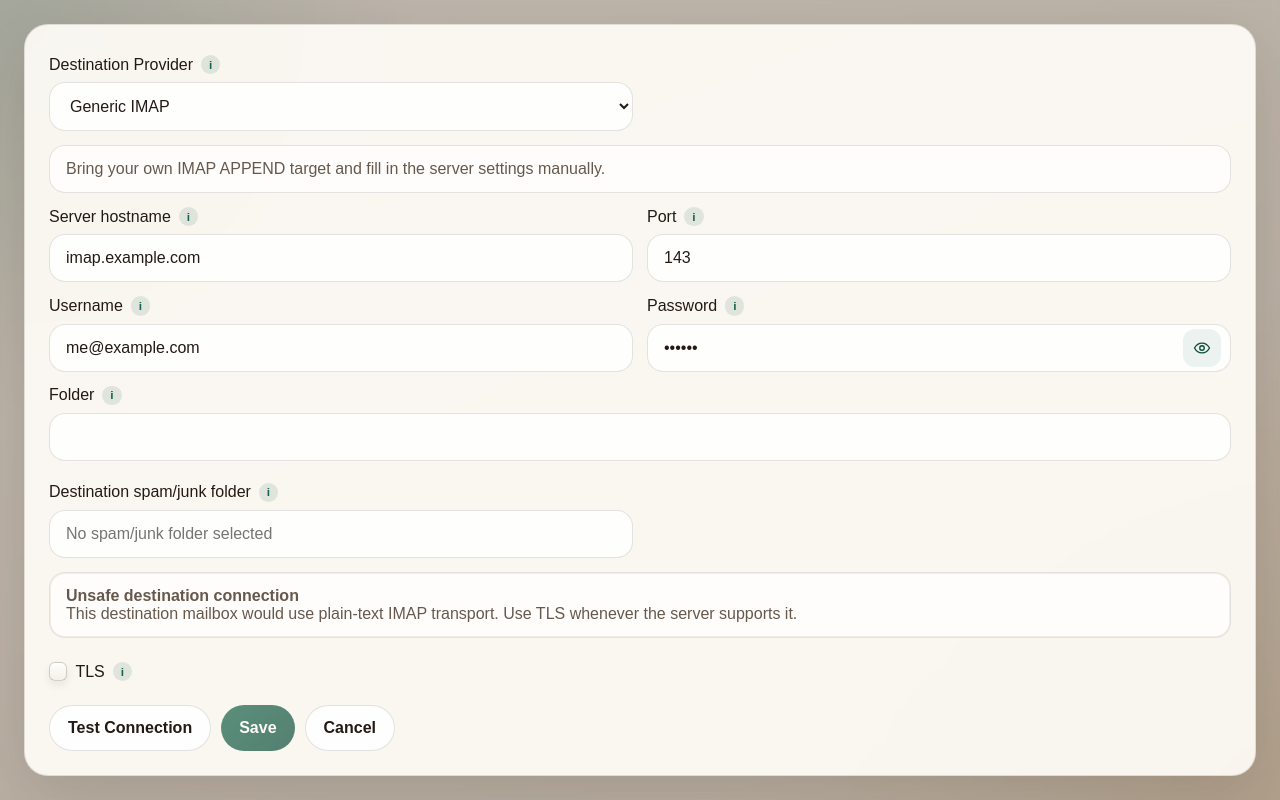
Scenario: DestinationMailboxDialog › locks TLS and loads detected folders after a secure connection test upgrade
(page scrolled)
Click the button "Test Connection". click: (130, 728)
box: left=49, top=705, right=211, bottom=751
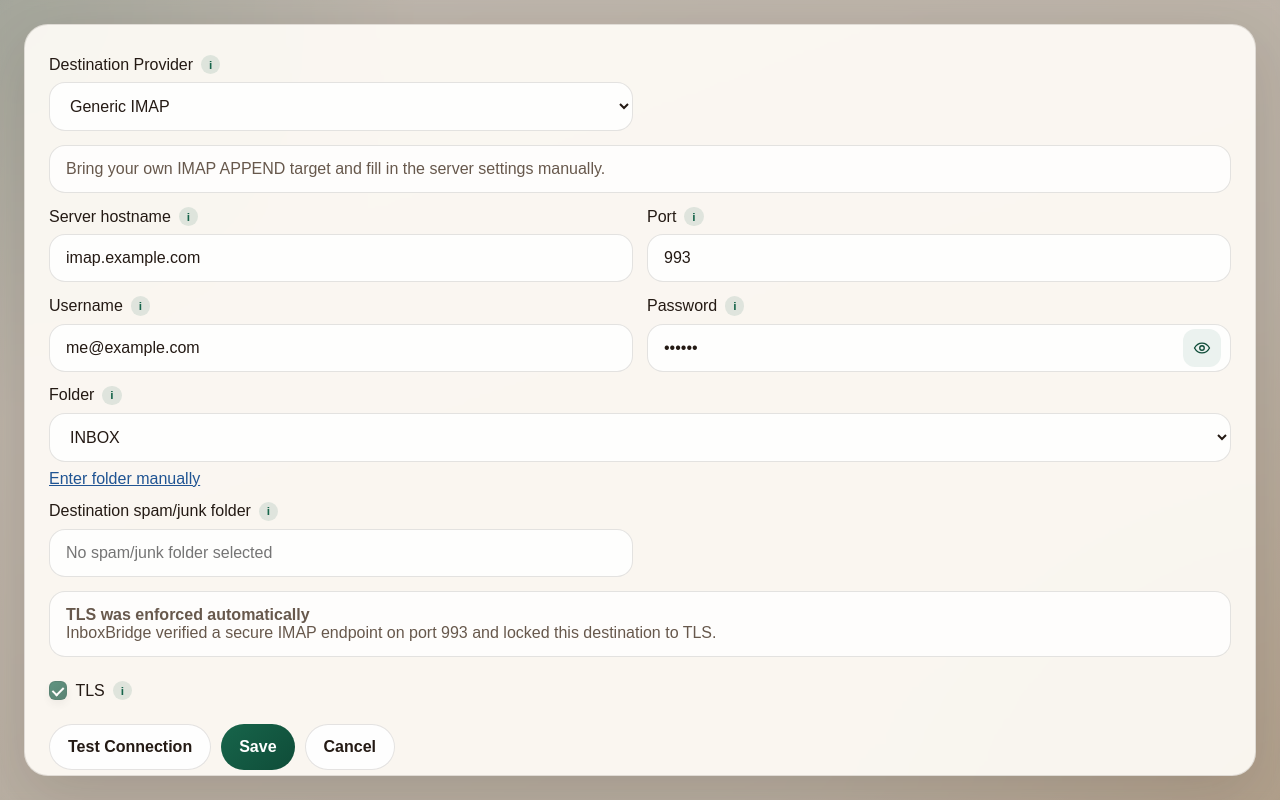
Expected: the checkbox labelled "TLS i" is checked, left=49, top=681, right=67, bottom=700
Expected: the checkbox labelled "TLS i" is disabled, left=49, top=681, right=67, bottom=700
Expected: the number field labelled "Port" holds "993", left=647, top=234, right=1231, bottom=282
